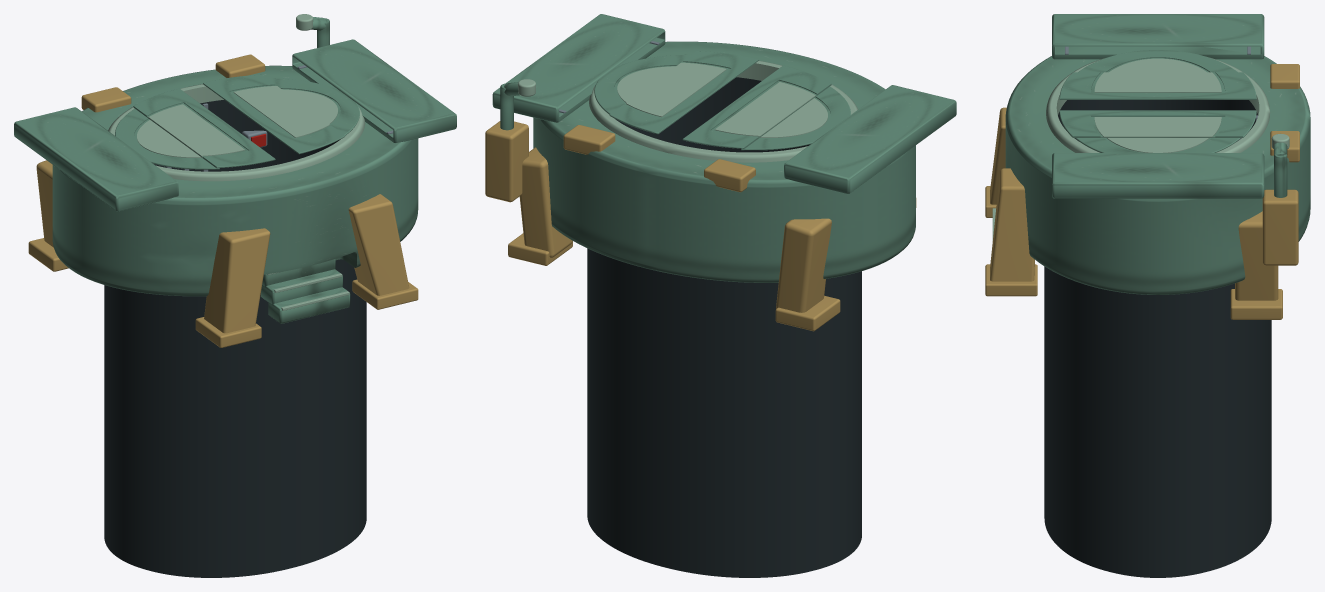
The model's file is descriptor-03.glb.
3 renders of one model, left to right at view 1: azimuth 30°, elevation 25°; view 2: azimuth 150°, elevation 25°; view 3: azimuth 270°, elevation 25°, orthographic. The views are drawn at different scales.
Parts seen in each view (by area): view 1: RI10 shaft wall below ground, RI10 fixed oval body, RI10 enclosed side cover cassette, RI10 enclosed side cover cassette.001, RI10 front splayed brass buttress, RI10 front splayed brass buttress.001, RI10 green aperture coaming, RI10 left cover shell inner segment, RI10 right cover shell inner segment, RI10 recessed green cover field inner segment, RI10 recessed green cover field inner segment.001, RI10 left cover shell outer segment (+12 smaller); view 2: RI10 shaft wall below ground, RI10 fixed oval body, RI10 enclosed side cover cassette, RI10 enclosed side cover cassette.001, RI10 rear brass load-bearing buttress, RI10 green aperture coaming, RI10 rear brass load-bearing buttress.001, RI10 left cover shell inner segment, RI10 right equipment mast foundation, RI10 right cover shell inner segment, RI10 recessed green cover field inner segment, RI10 recessed green cover field inner segment.001 (+8 smaller); view 3: RI10 shaft wall below ground, RI10 fixed oval body, RI10 enclosed side cover cassette.001, RI10 enclosed side cover cassette, RI10 front splayed brass buttress.001, RI10 right cover shell inner segment, RI10 left cover shell inner segment, RI10 right equipment mast foundation, RI10 recessed green cover field inner segment, RI10 recessed green cover field inner segment.001, RI10 rear brass load-bearing buttress.001, RI10 green aperture coaming (+10 smaller).
Part boxes in pixels (x1,y1,x2,y2): RI10 shaft wall below ground: (104, 100, 366, 577); RI10 fixed oval body: (52, 65, 418, 296); RI10 enclosed side cover cassette: (14, 107, 178, 211); RI10 enclosed side cover cassette.001: (292, 39, 456, 142); RI10 front splayed brass buttress: (204, 228, 270, 333); RI10 front splayed brass buttress.001: (348, 194, 409, 295); RI10 green aperture coaming: (108, 84, 365, 181); RI10 left cover shell inner segment: (133, 88, 275, 168); RI10 right cover shell inner segment: (203, 74, 345, 154); RI10 recessed green cover field inner segment: (148, 104, 244, 156); RI10 recessed green cover field inner segment.001: (233, 86, 329, 137); RI10 left cover shell outer segment: (115, 109, 219, 169); RI10 shaft wall below ground: (587, 77, 861, 577); RI10 fixed oval body: (533, 41, 915, 282); RI10 enclosed side cover cassette: (784, 85, 956, 193); RI10 enclosed side cover cassette.001: (492, 14, 665, 122); RI10 rear brass load-bearing buttress: (776, 218, 831, 312); RI10 green aperture coaming: (589, 60, 857, 162); RI10 rear brass load-bearing buttress.001: (519, 147, 572, 257); RI10 left cover shell inner segment: (682, 65, 831, 148); RI10 right equipment mast foundation: (485, 121, 528, 202); RI10 right cover shell inner segment: (609, 51, 758, 134); RI10 recessed green cover field inner segment: (714, 82, 815, 136); RI10 recessed green cover field inner segment.001: (626, 62, 726, 117); RI10 shaft wall below ground: (1044, 100, 1271, 577); RI10 fixed oval body: (1005, 56, 1310, 294); RI10 enclosed side cover cassette.001: (1052, 153, 1264, 198); RI10 enclosed side cover cassette: (1052, 14, 1264, 59); RI10 front splayed brass buttress.001: (990, 168, 1034, 281); RI10 right cover shell inner segment: (1059, 110, 1256, 137); RI10 left cover shell inner segment: (1059, 72, 1256, 99); RI10 right equipment mast foundation: (1262, 189, 1298, 265); RI10 recessed green cover field inner segment: (1094, 72, 1221, 92); RI10 recessed green cover field inner segment.001: (1094, 117, 1221, 137); RI10 rear brass load-bearing buttress.001: (1235, 211, 1278, 300); RI10 green aperture coaming: (1046, 57, 1270, 152).
Bounding box in the file's own units: 2.7 × 3.31 × 2.17.
Materials: 7 (2 with a texture image).
